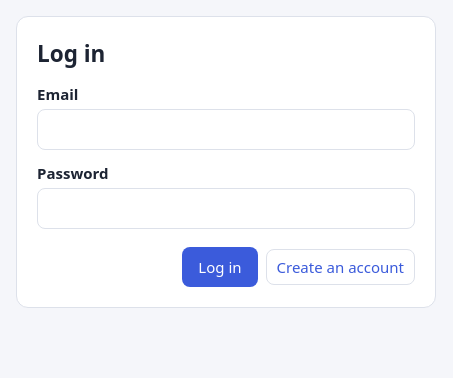
Scenario: Login › shows the server message for a wrong password
Type "alice@example.com" into the field labelled "Email" at coordinates (226, 130), box [37,109,415,150]
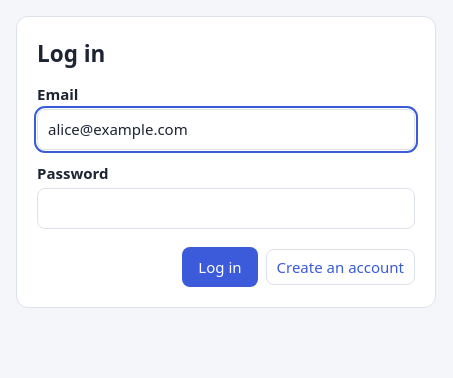
Type "wrong-pass" into the password field labelled "Password" at coordinates (226, 209), box [37,188,415,229]
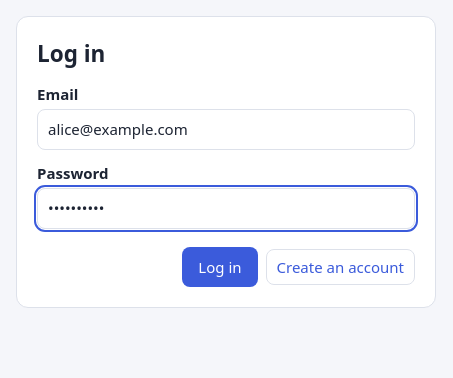
Click the button "Log in" at coordinates (220, 267), box [182,247,258,287]
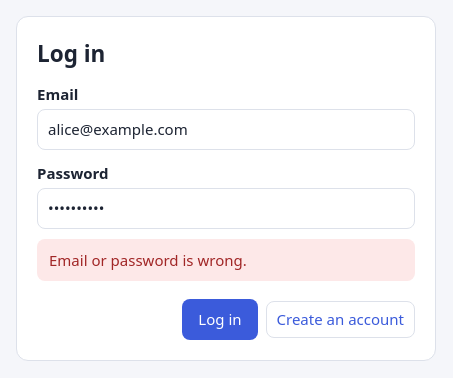
Now the message reads "Email or password is wrong.", box [49,250,247,270]
